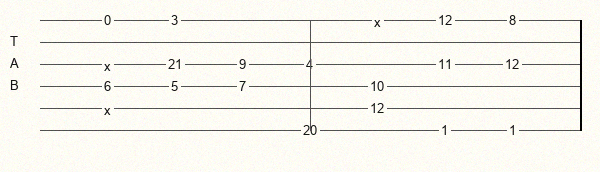0: (104, 13, 115, 27)
1: (441, 123, 452, 137), (509, 123, 520, 137)
10: (370, 79, 388, 93)
11: (438, 57, 456, 71)
12: (370, 101, 388, 115), (438, 13, 456, 27), (505, 57, 523, 71)
20: (303, 123, 321, 137)
21: (168, 57, 186, 71)
3: (171, 13, 182, 27)
4: (306, 57, 317, 71)
5: (171, 79, 182, 93)
6: (104, 79, 115, 93)
7: (239, 79, 250, 93)
8: (509, 13, 520, 27)
9: (239, 57, 250, 71)
x: (104, 59, 115, 70), (104, 103, 115, 114), (374, 15, 385, 26)
